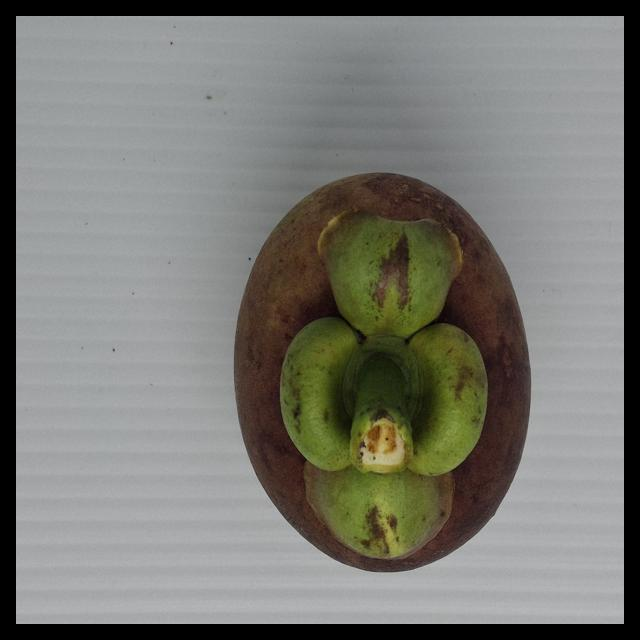mangosteen: (219, 160, 562, 599)
